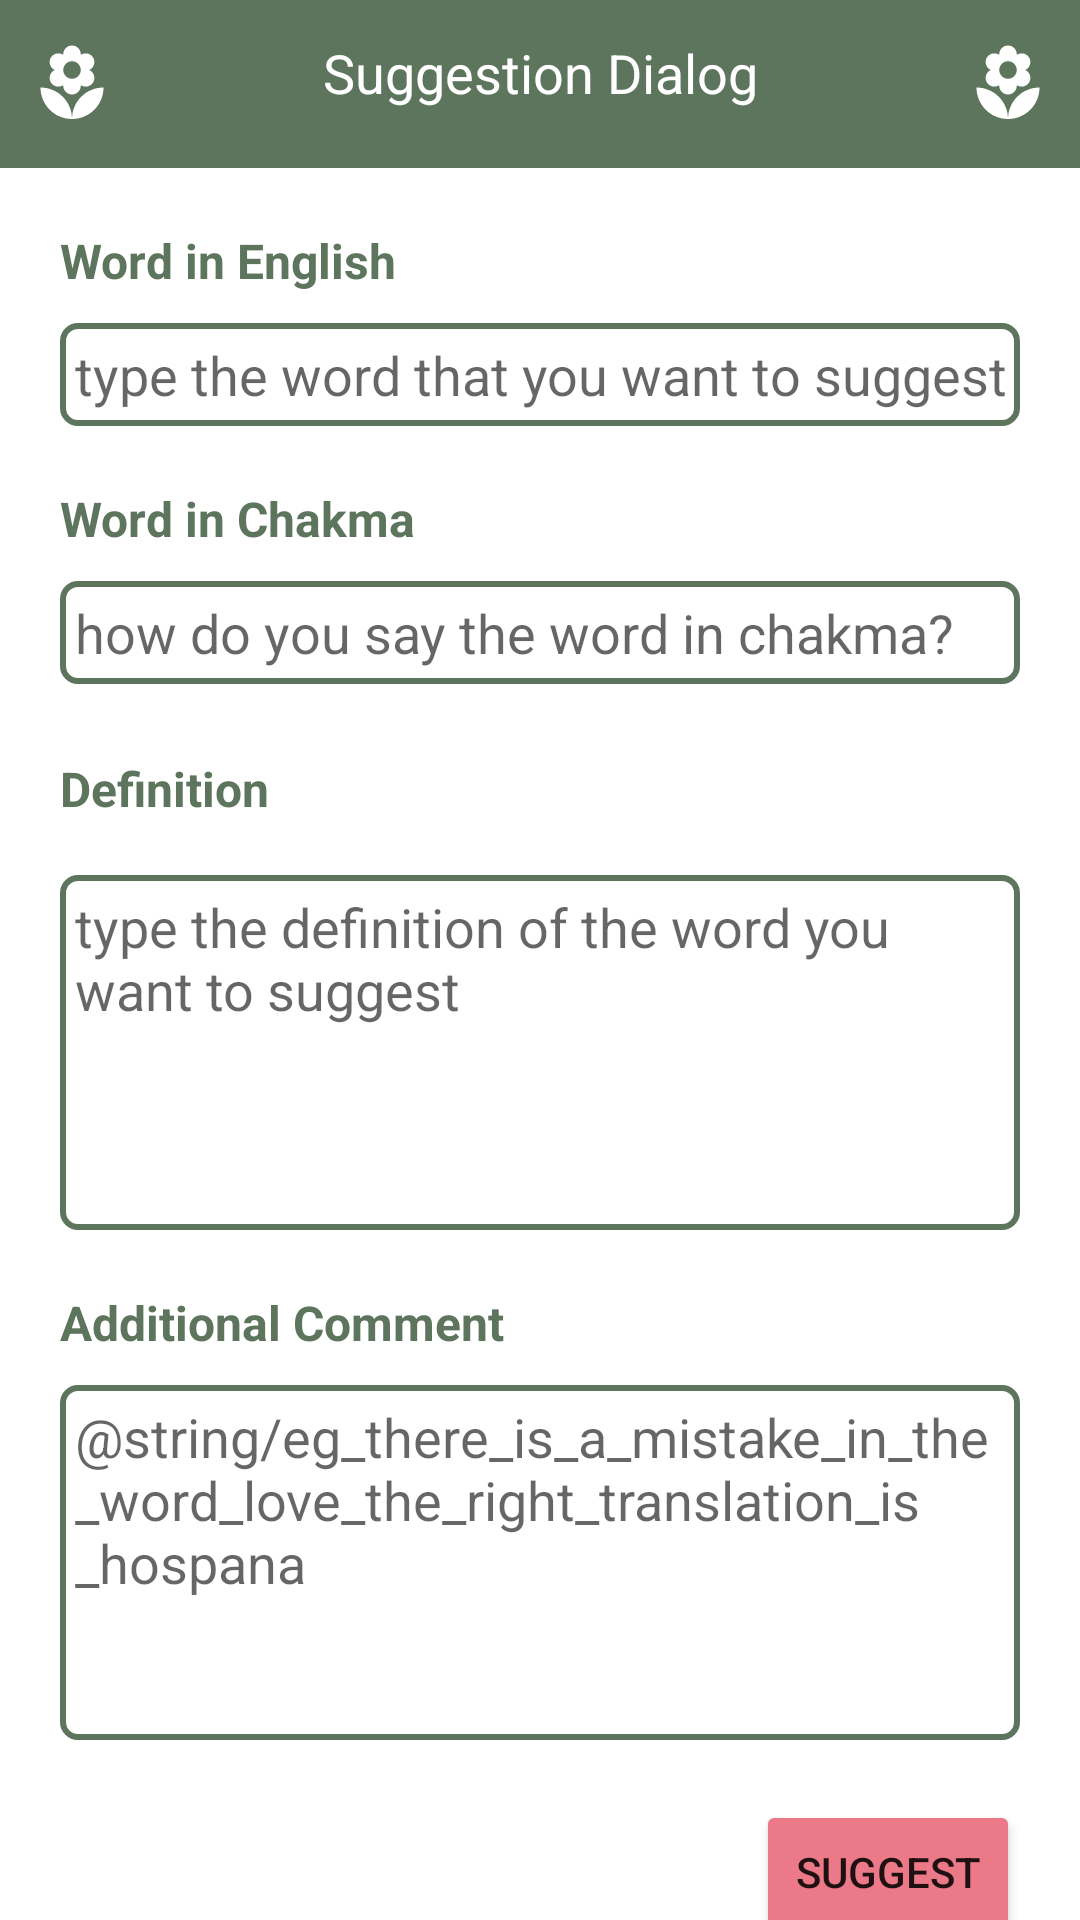

Named icons in this screenshot (1080×1920) and their bounding boxes, bbox=(x1, y1, x2, y2):
local florist: bbox=(40, 45, 104, 119), bbox=(976, 45, 1040, 119)
